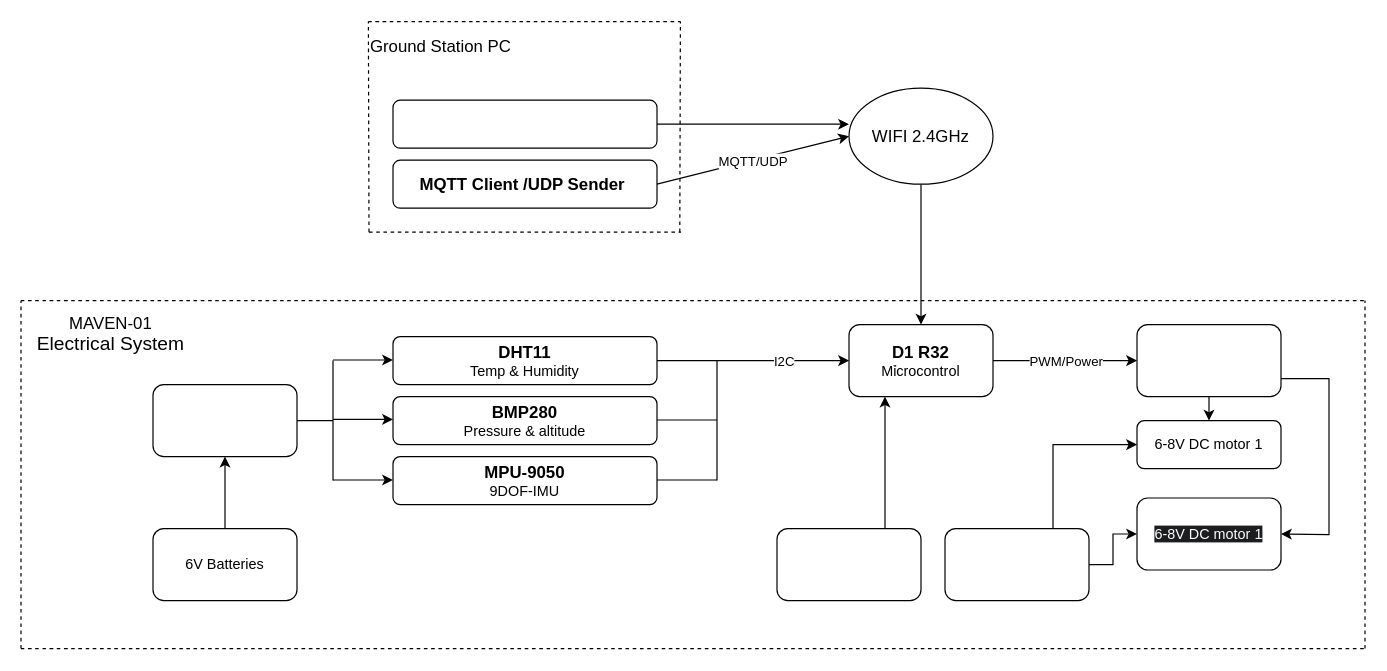
The diagram is 1387 pixels wide and 671 high, and some of its shapes have lost their labels. The centre of each missing label's shape, as x and y in pixels:
18620 batteries (13A/7.2V): the point at 1016,564
9V battery: the point at 848,564
L298N (2 H-bridge Driver): the point at 1208,360
LM2596 Buck converter 3.3V: the point at 224,420
QT + Python (Control and Monitoring UI): the point at 524,123
